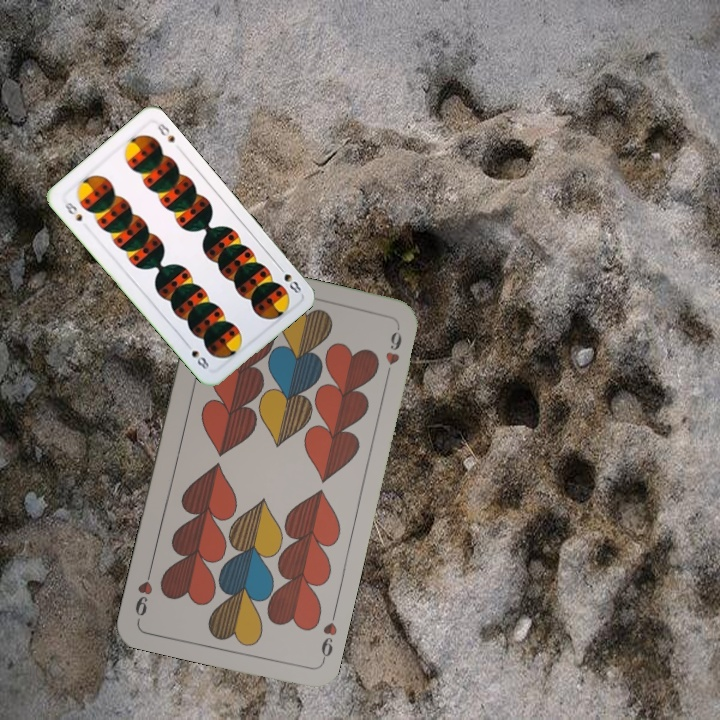H9: (317, 607, 340, 665)
S8: (273, 261, 304, 296), (60, 198, 85, 224)
